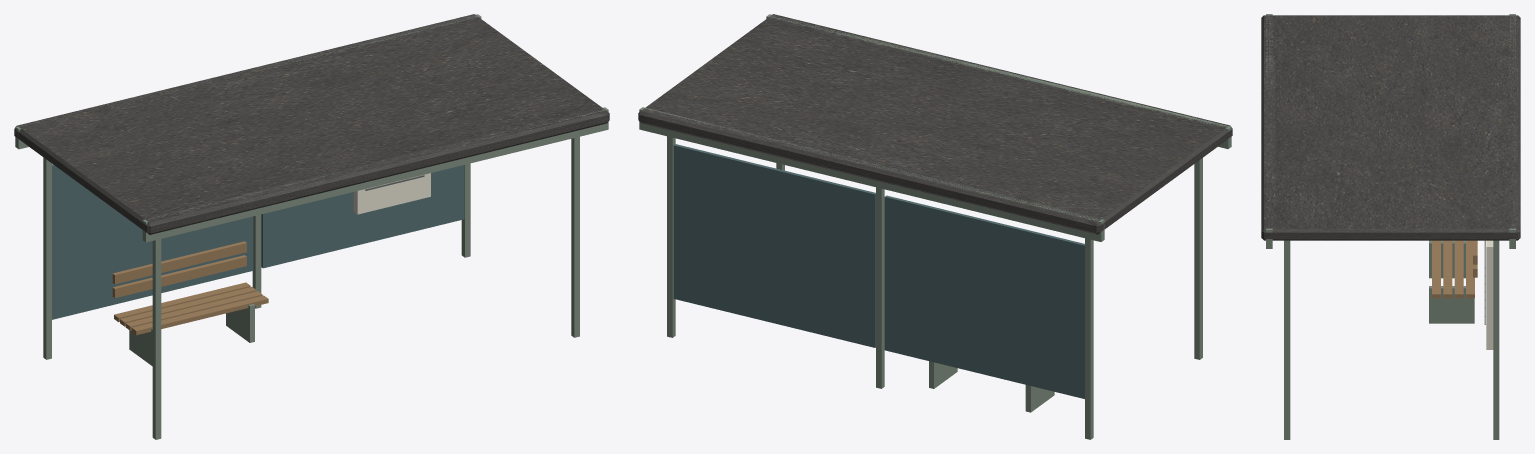
The model's file is bus_shelter.glb.
The picture shows the model from 3 angles, left to right: view 1: azimuth 30°, elevation 25°; view 2: azimuth 150°, elevation 25°; view 3: azimuth 270°, elevation 25°; orthographic projection. The views are drawn at different scales.
Parts seen in each view (by area): view 1: bus_shelter; view 2: bus_shelter; view 3: bus_shelter.
Part boxes in pixels (x1=…): bus_shelter: x1=14, y1=14, x2=609, y2=439; bus_shelter: x1=638, y1=14, x2=1232, y2=439; bus_shelter: x1=1261, y1=14, x2=1520, y2=439.
Size of the model in its own units: 6.3 by 2.98 by 3.2.
6 materials, 1 textured.
